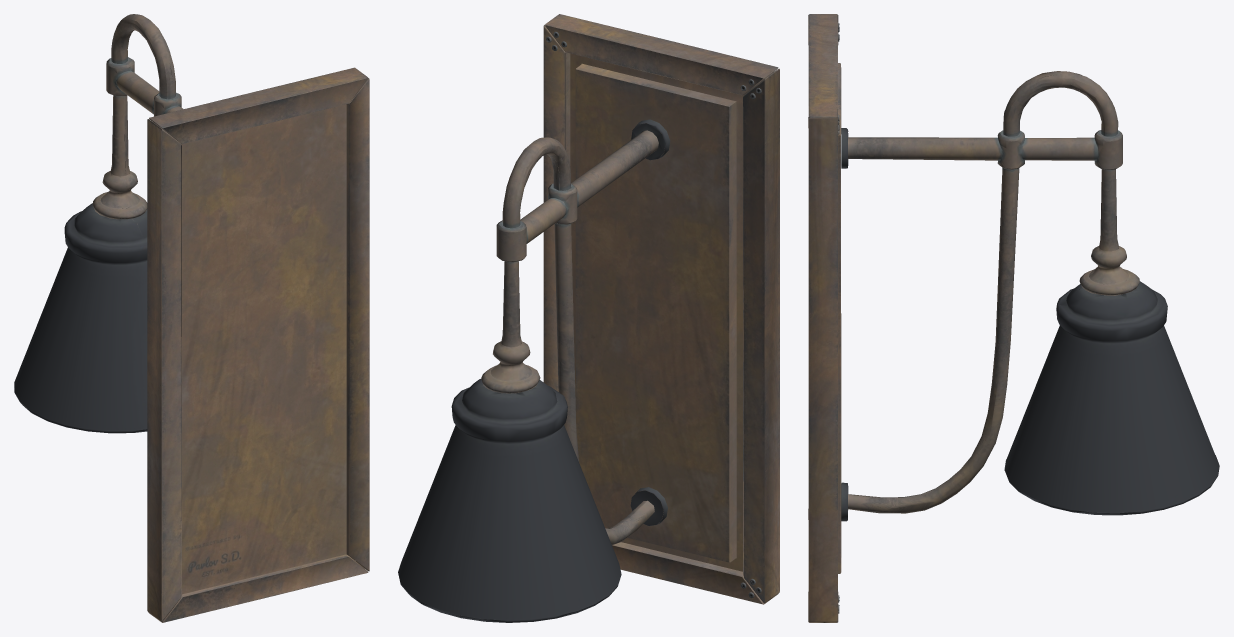
The picture shows the model from 3 angles, left to right: view 1: azimuth 30°, elevation 25°; view 2: azimuth 150°, elevation 25°; view 3: azimuth 270°, elevation 25°; orthographic projection. The views are drawn at different scales.
Visible parts, largest first — view 1: industrial_wall_sconce.001; view 2: industrial_wall_sconce.001; view 3: industrial_wall_sconce.001.
Boxes of the visible parts, left/top/right/bottom form: industrial_wall_sconce.001: left=14, top=14, right=369, bottom=622; industrial_wall_sconce.001: left=398, top=14, right=779, bottom=622; industrial_wall_sconce.001: left=808, top=14, right=1219, bottom=622.
Size of the model in its own units: 0.1502 by 0.3418 by 0.2518.
Materials: 2 (2 with a texture image).
